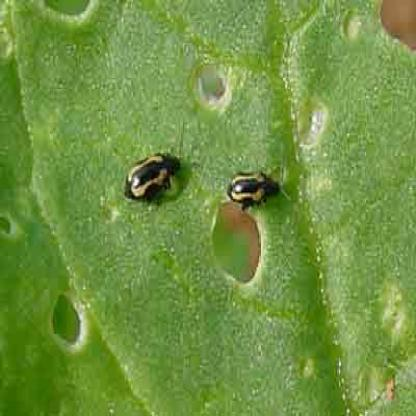beetle: (121, 142, 193, 208), (229, 161, 290, 211)
